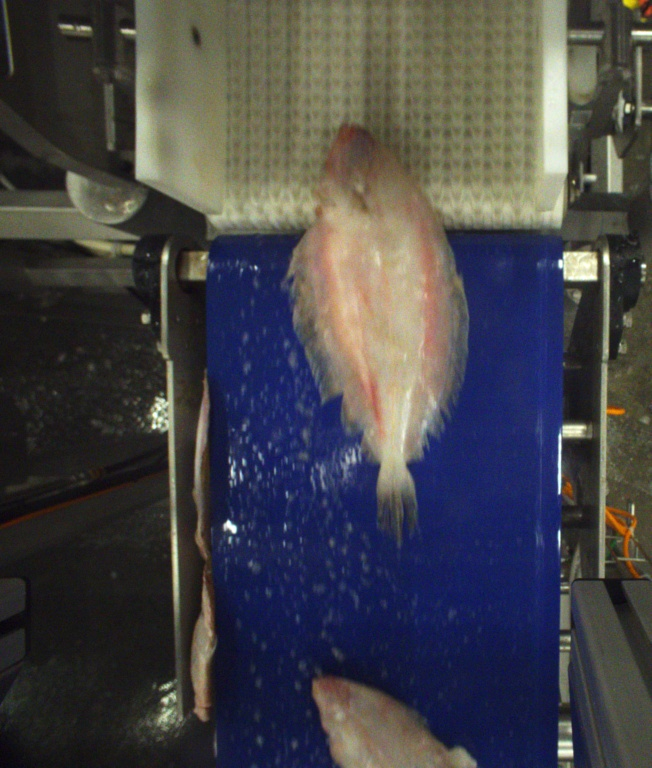WIT: (312, 675, 477, 768)
